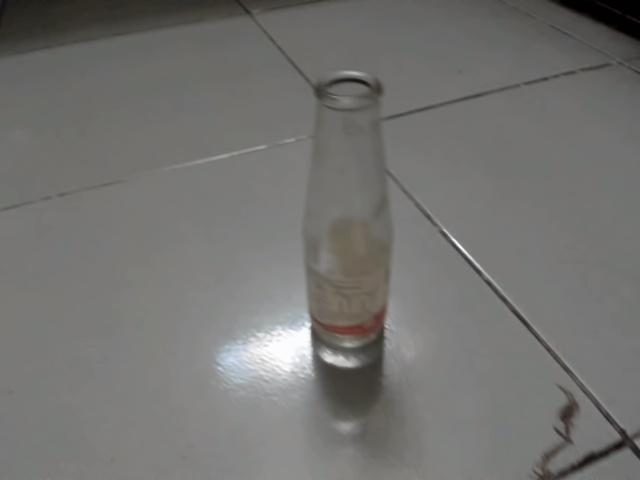botol_kaca: (294, 64, 398, 374)
